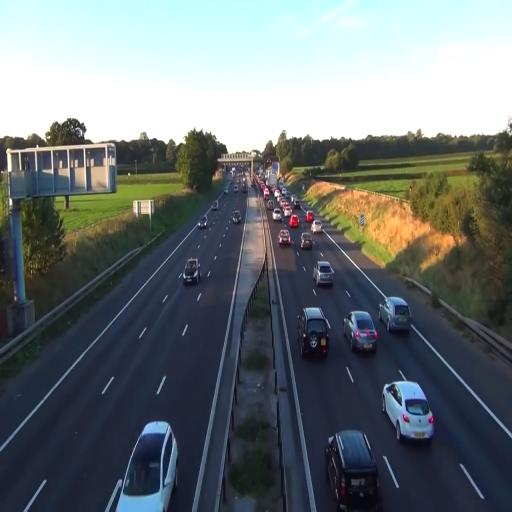vehicle: (104, 420, 178, 511), (325, 428, 381, 511), (382, 379, 435, 444), (298, 305, 331, 358), (343, 310, 378, 354), (379, 295, 411, 334), (312, 260, 334, 291), (182, 257, 200, 284), (278, 228, 292, 246), (300, 234, 314, 252), (271, 205, 283, 222), (232, 211, 240, 225), (199, 218, 207, 230)
